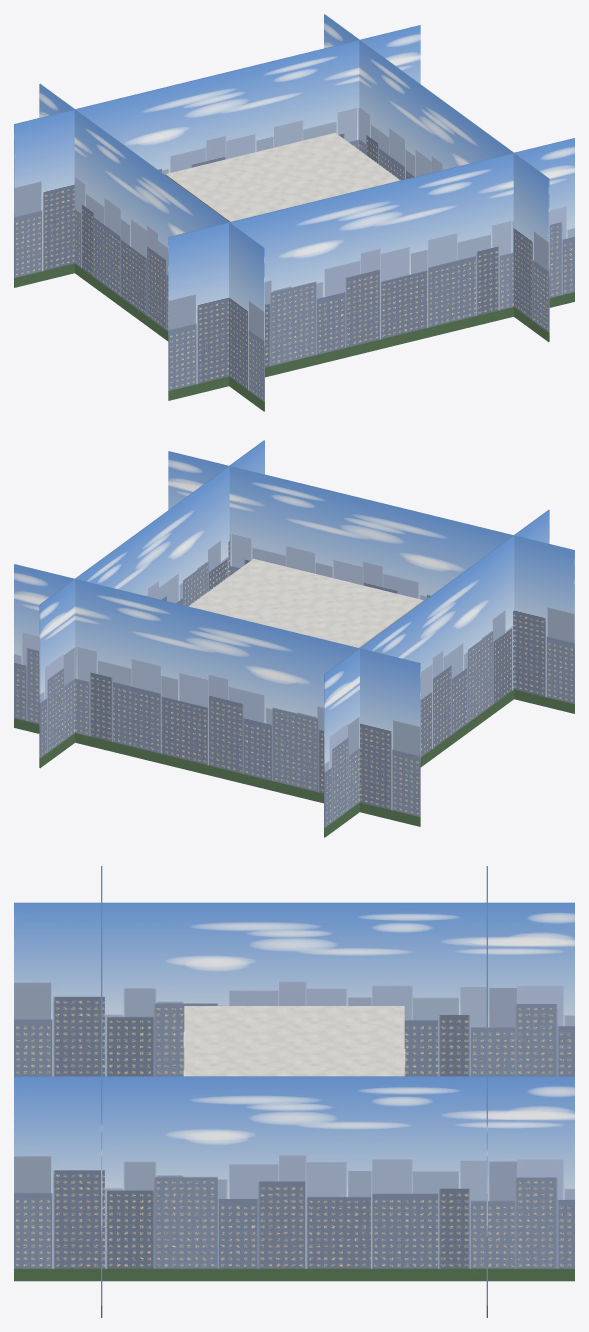
The model's file is interior.glb.
The picture shows the model from 3 angles, top to bottom: view 1: azimuth 30°, elevation 25°; view 2: azimuth 150°, elevation 25°; view 3: azimuth 270°, elevation 25°; orthographic projection. The views are drawn at different scales.
Parts seen in each view (by area): view 1: Sky_Front, Sky_Back, Sky_West, Sky_East, Ceiling; view 2: Sky_Back, Sky_Front, Sky_West, Sky_East, Ceiling; view 3: Sky_East, Sky_West, Ceiling, Sky_Back, Sky_Front.
Boxes of the visible parts, bbox=[...] form: Sky_Front: bbox=[168, 138, 574, 400]; Sky_Back: bbox=[14, 25, 420, 287]; Sky_West: bbox=[39, 83, 264, 411]; Sky_East: bbox=[324, 14, 549, 342]; Ceiling: bbox=[165, 132, 400, 221]; Sky_Back: bbox=[14, 564, 420, 826]; Sky_Front: bbox=[168, 451, 574, 713]; Sky_West: bbox=[324, 509, 549, 837]; Sky_East: bbox=[39, 440, 264, 768]; Ceiling: bbox=[188, 558, 423, 647]; Sky_East: bbox=[14, 1076, 574, 1281]; Sky_West: bbox=[14, 902, 574, 1076]; Ceiling: bbox=[184, 1006, 404, 1076]; Sky_Back: bbox=[486, 866, 487, 1317]; Sky_Front: bbox=[101, 866, 102, 1317].
Bounding box in the file's own units: 23.4 × 9 × 22.4.
Materials: 20 (20 with a texture image).
